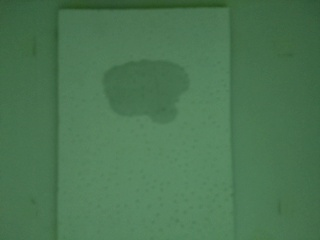Water_detected: (110, 60, 187, 111)
